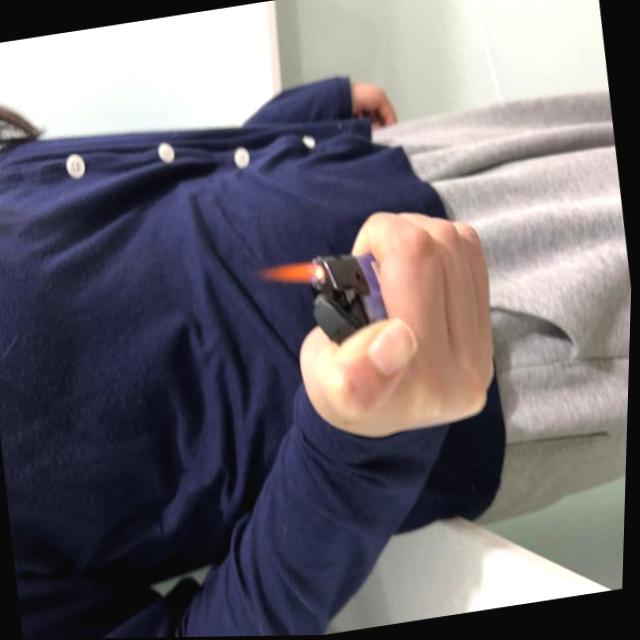Fire: (258, 259, 330, 297)
